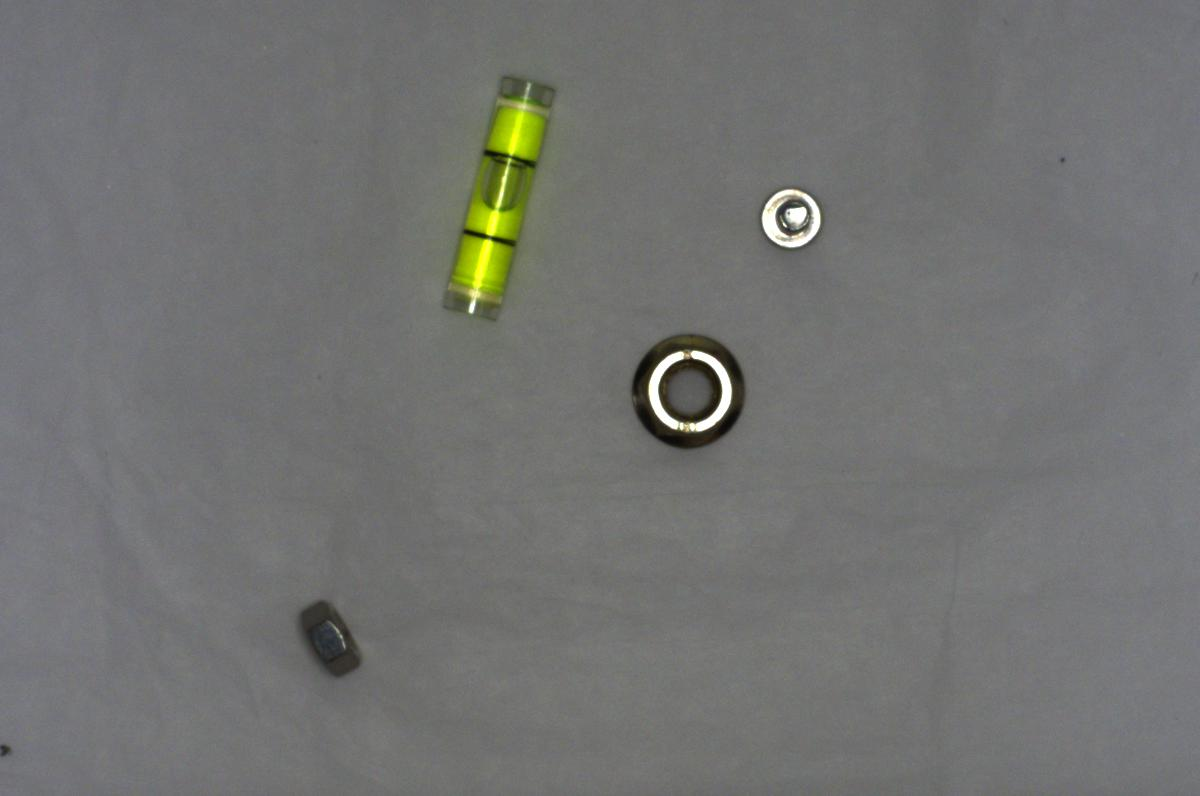Flange nut: (619, 327, 750, 448)
Hexagon nut: (278, 594, 371, 682)
Horizontal bubble: (441, 72, 552, 325)
Round head screw: (752, 181, 834, 248)
